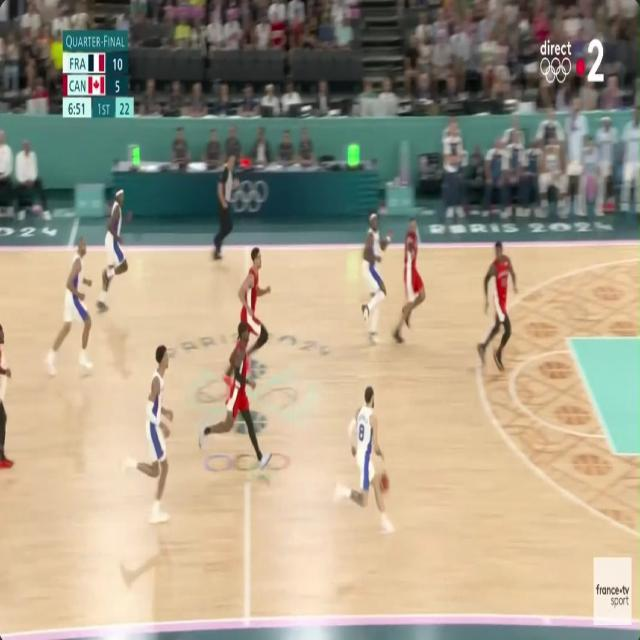ball_handler: (349, 381, 398, 536)
